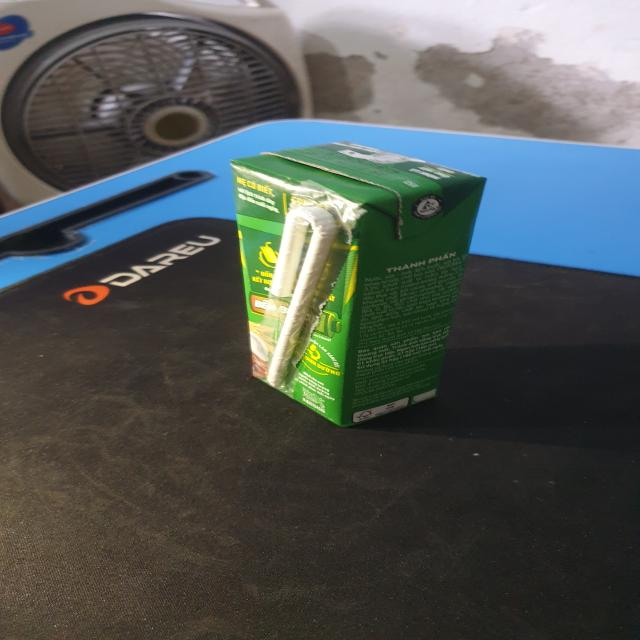Milo: (250, 149, 490, 423)
